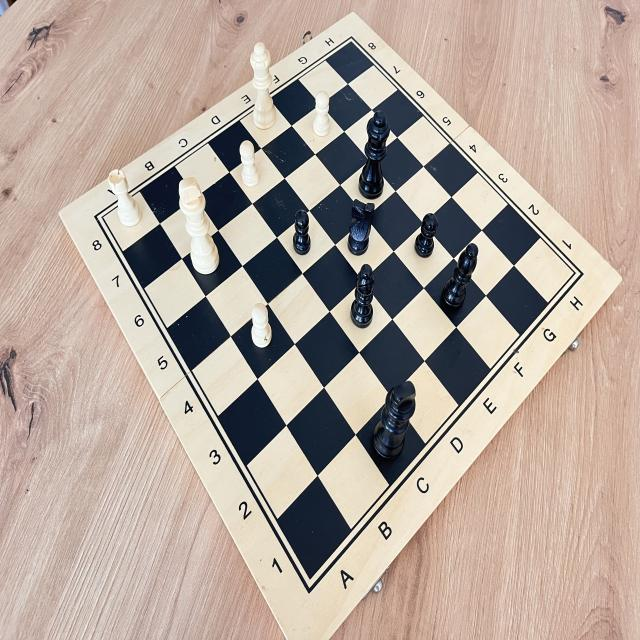black-bishop: (435, 238, 482, 318), (344, 257, 380, 331)
black-king: (365, 372, 425, 474)
black-knight: (342, 192, 382, 262)
black-pawn: (410, 210, 442, 264), (289, 202, 315, 258)
black-queen: (352, 98, 396, 208)
white-king: (174, 170, 222, 280)
white-pawn: (248, 298, 276, 357), (238, 136, 264, 191), (310, 86, 333, 143)
white-queen: (242, 35, 282, 134)
white-rook: (103, 164, 147, 230)
